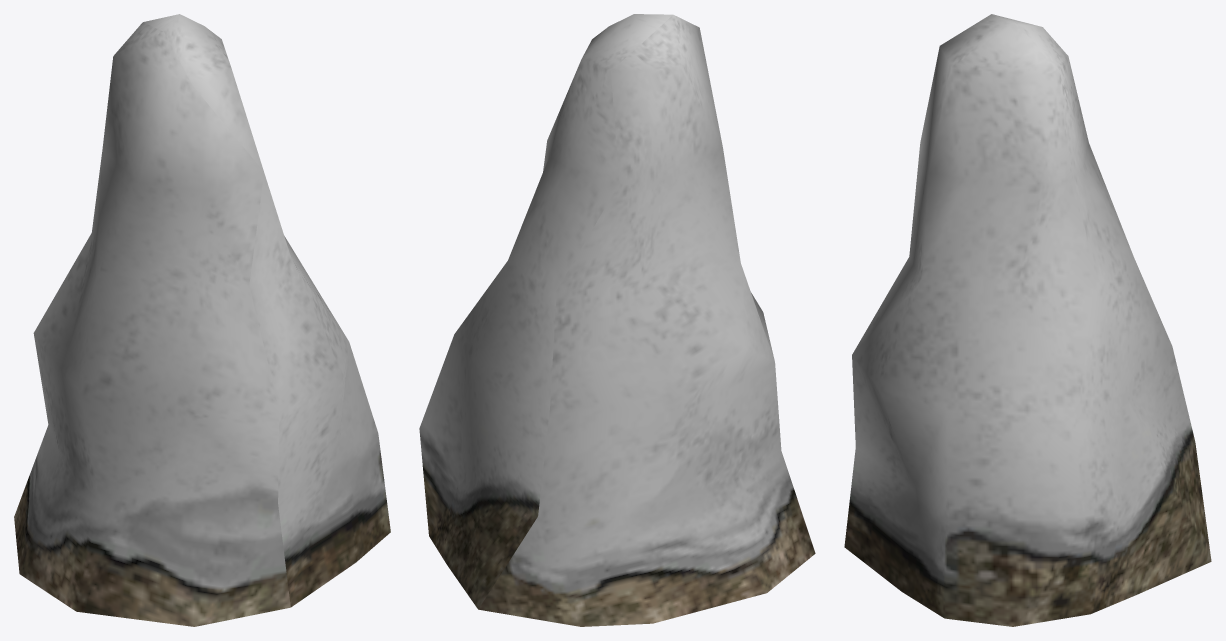
File: general_obj_txtstone.fbx
3 renders of one model, left to right at view 1: azimuth 30°, elevation 25°; view 2: azimuth 150°, elevation 25°; view 3: azimuth 270°, elevation 25°, orthographic. The views are drawn at different scales.
Parts seen in each view (by area): view 1: Box01; view 2: Box01; view 3: Box01.
Boxes of the visible parts, x1,y1,x2,y2 form: Box01: [14, 14, 390, 626]; Box01: [419, 14, 815, 626]; Box01: [844, 14, 1211, 626].
Bounding box in the file's own units: 1.84 × 2.77 × 1.8.
